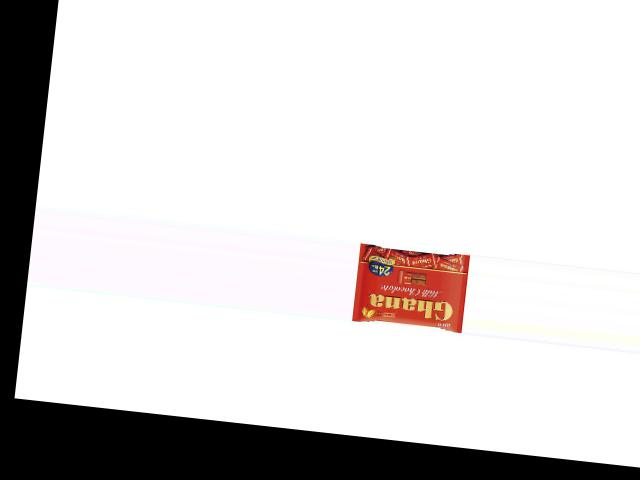chocolate: (350, 240, 468, 331)
